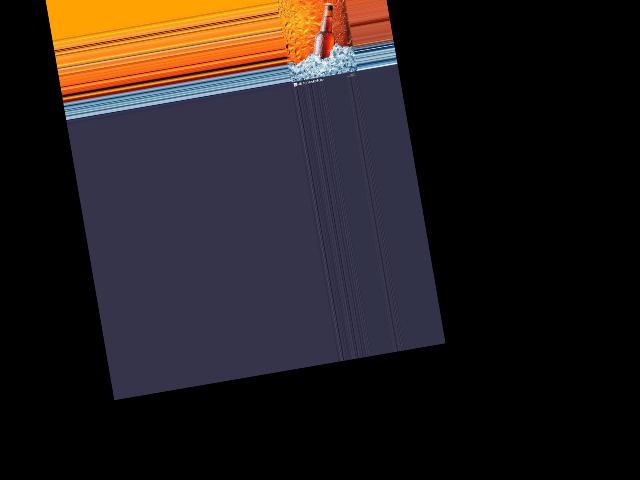beer: (306, 1, 344, 61)
